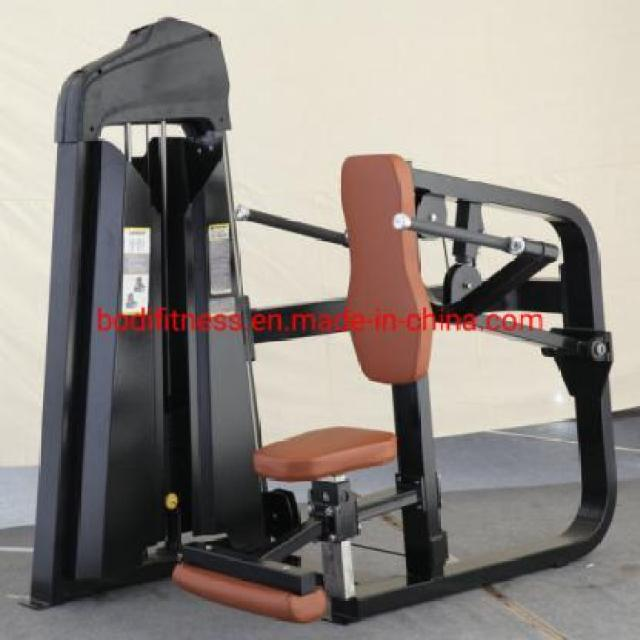seated dip machine: (21, 15, 618, 628)
